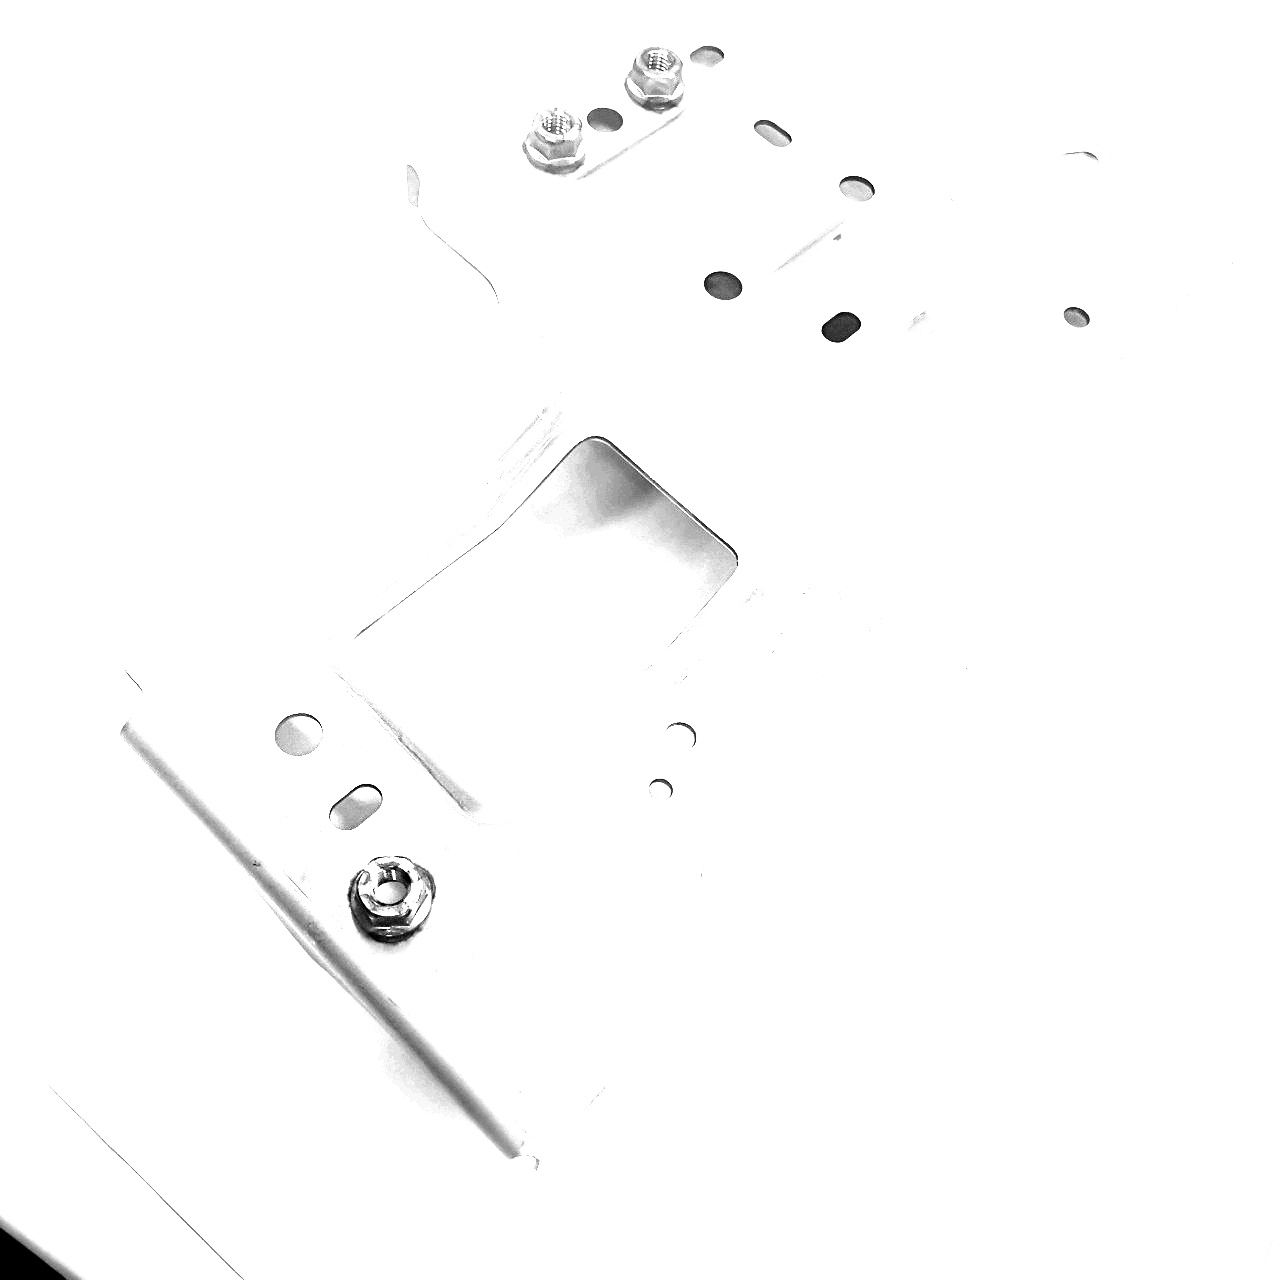dog: (343, 846, 440, 948), (516, 102, 594, 176), (620, 42, 694, 116)
